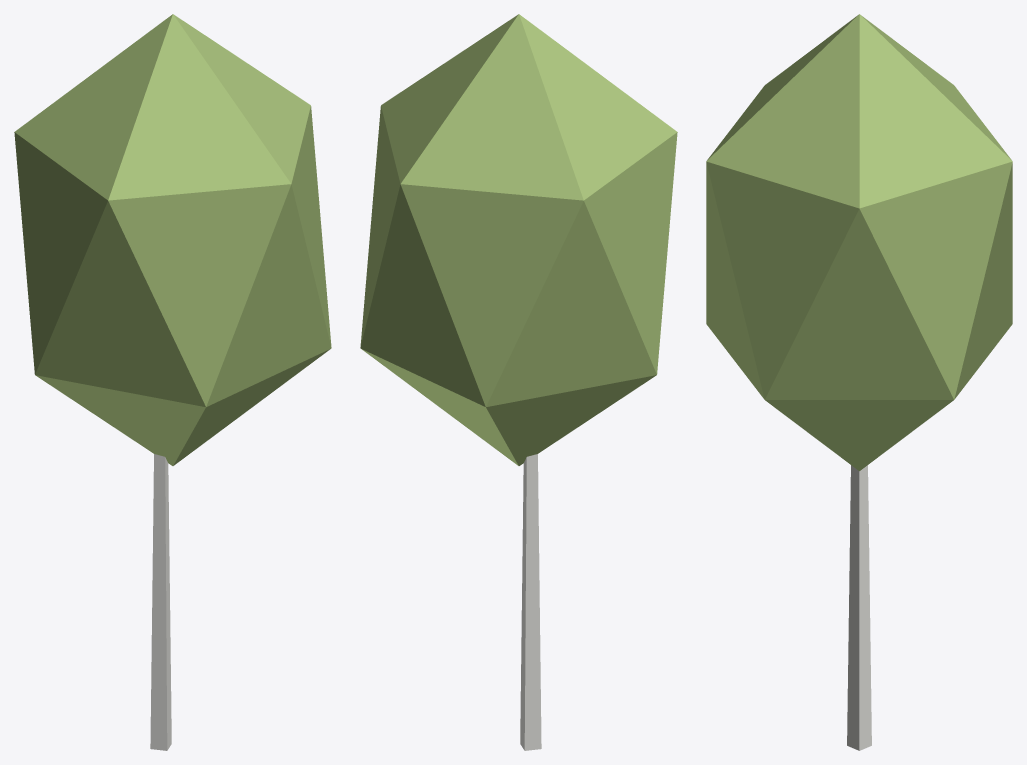
File: birch_lod.glb
The picture shows the model from 3 angles, left to right: view 1: azimuth 30°, elevation 25°; view 2: azimuth 150°, elevation 25°; view 3: azimuth 270°, elevation 25°; orthographic projection.
Parts seen in each view (by area): view 1: birch_lod; view 2: birch_lod; view 3: birch_lod.
Part boxes in pixels (left/top/right/bottom): birch_lod: left=14, top=14, right=331, bottom=750; birch_lod: left=360, top=14, right=677, bottom=750; birch_lod: left=706, top=14, right=1012, bottom=750.
Bounding box in the file's own units: 4.65 × 11.74 × 4.42.
